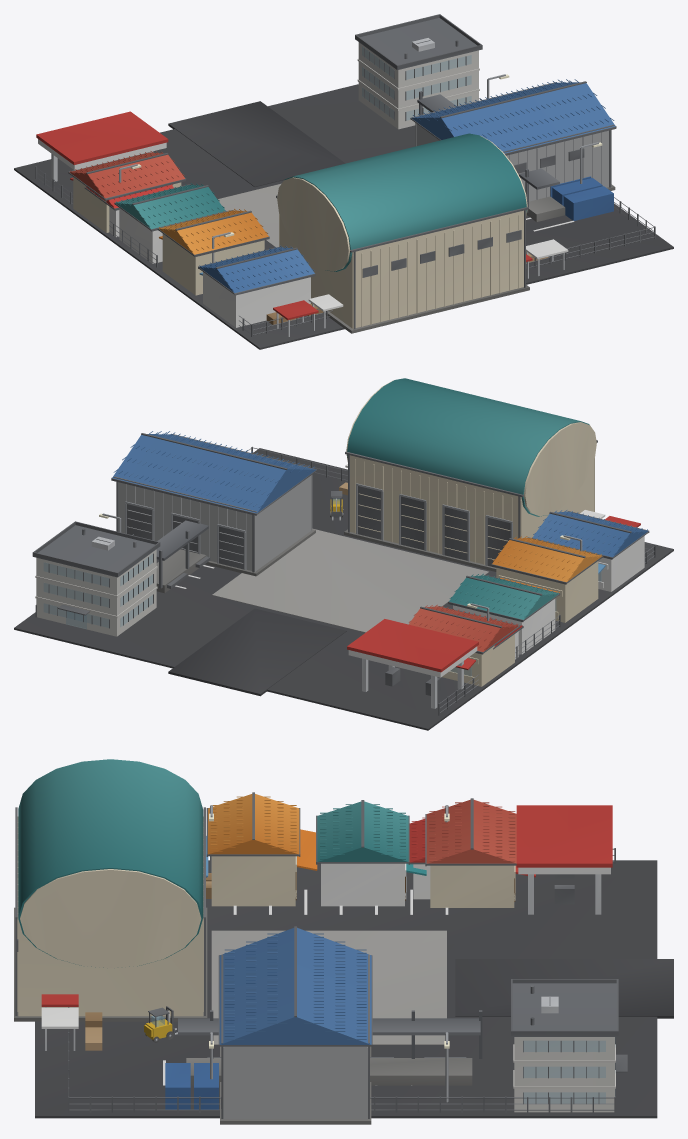
Rendered from Market_P3.fbx.
The picture shows the model from 3 angles, top to bottom: view 1: azimuth 30°, elevation 25°; view 2: azimuth 150°, elevation 25°; view 3: azimuth 270°, elevation 25°; orthographic projection. The views are drawn at different scales.
Parts seen in each view (by area): view 1: Market.WH1, Market.Pad, Market.WH2, Market.Office, Market.Shop3, Market.Shop2, Market.Fuel, Market.Shop0, Market.Shop1, Market.Stalls, Market.Goods, Market.Dock (+2 smaller); view 2: Market.Pad, Market.WH1, Market.WH2, Market.Office, Market.Fuel, Market.Shop2, Market.Shop3, Market.Shop1, Market.Shop0, Market.Dock, Market.Fence; view 3: Market.Pad, Market.WH1, Market.WH2, Market.Office, Market.Shop2, Market.Shop0, Market.Shop1, Market.Fuel, Market.Dock, Market.Fence, Market.Goods, Market.Stalls (+2 smaller).
Part boxes in pixels (x1=…): Market.WH1: x1=276, y1=133, x2=529, y2=333; Market.Pad: x1=14, y1=84, x2=673, y2=349; Market.WH2: x1=410, y1=79, x2=616, y2=201; Market.Office: x1=355, y1=14, x2=482, y2=129; Market.Shop3: x1=198, y1=245, x2=315, y2=327; Market.Shop2: x1=157, y1=208, x2=269, y2=295; Market.Fuel: x1=36, y1=111, x2=168, y2=181; Market.Shop0: x1=68, y1=151, x2=186, y2=232; Market.Shop1: x1=114, y1=183, x2=226, y2=263; Market.Stalls: x1=266, y1=239, x2=568, y2=336; Market.Goods: x1=550, y1=176, x2=613, y2=220; Market.Dock: x1=417, y1=91, x2=565, y2=221; Market.Pad: x1=14, y1=448, x2=673, y2=730; Market.WH1: x1=344, y1=378, x2=597, y2=571; Market.WH2: x1=111, y1=431, x2=317, y2=576; Market.Office: x1=32, y1=521, x2=160, y2=636; Market.Fuel: x1=347, y1=619, x2=478, y2=708; Market.Shop2: x1=491, y1=536, x2=603, y2=622; Market.Shop3: x1=532, y1=510, x2=649, y2=591; Market.Shop1: x1=448, y1=573, x2=560, y2=654; Market.Shop0: x1=409, y1=604, x2=519, y2=686; Market.Dock: x1=156, y1=520, x2=210, y2=593; Market.Fence: x1=35, y1=446, x2=655, y2=715; Market.Pad: x1=35, y1=860, x2=673, y2=1118; Market.WH1: x1=14, y1=759, x2=207, y2=1021; Market.WH2: x1=218, y1=926, x2=372, y2=1124; Market.Office: x1=511, y1=979, x2=627, y2=1112; Market.Shop2: x1=206, y1=792, x2=317, y2=906; Market.Shop0: x1=425, y1=798, x2=535, y2=907; Market.Shop1: x1=316, y1=800, x2=426, y2=906; Market.Fuel: x1=516, y1=805, x2=612, y2=914; Market.Dock: x1=178, y1=1010, x2=482, y2=1085; Market.Fence: x1=68, y1=848, x2=615, y2=1112; Market.Goods: x1=165, y1=873, x2=218, y2=1109; Market.Stalls: x1=41, y1=994, x2=102, y2=1050.
Size of the model in its own units: 7474 by 2041 by 7850.
